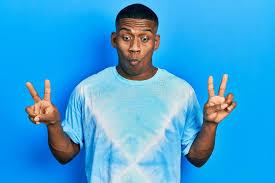peace_sign: (23, 79, 61, 128)
